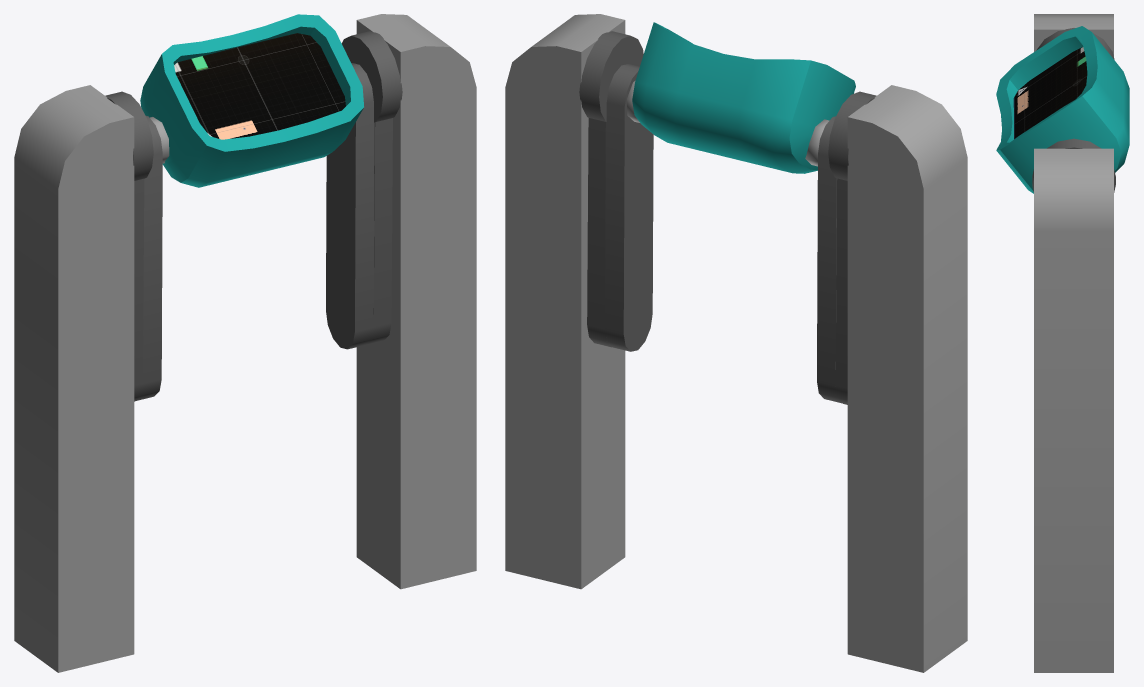
The model's file is SM_DroneGoggles.fbx.
3 views of the same model, side by side, from view 1: azimuth 30°, elevation 25°; view 2: azimuth 150°, elevation 25°; view 3: azimuth 270°, elevation 25° (orthographic). The views are drawn at different scales.
Parts seen in each view (by area): view 1: BAse, Arm2, Goggles, Screen, Arm1, Pivot; view 2: BAse, Goggles, Arm2, Arm1, Pivot, Pivot2; view 3: BAse, Goggles, Screen, Pivot.
Boxes of the visible parts, bbox=[...] form: BAse: bbox=[14, 14, 476, 672]; Arm2: bbox=[136, 63, 374, 400]; Goggles: bbox=[140, 14, 363, 187]; Screen: bbox=[174, 33, 345, 139]; Arm1: bbox=[134, 118, 392, 401]; Pivot: bbox=[105, 31, 402, 180]; BAse: bbox=[505, 14, 967, 672]; Goggles: bbox=[632, 22, 855, 173]; Arm2: bbox=[605, 64, 841, 403]; Arm1: bbox=[587, 118, 847, 404]; Pivot: bbox=[579, 31, 876, 180]; Pivot2: bbox=[627, 80, 829, 166]; BAse: bbox=[1034, 14, 1113, 672]; Goggles: bbox=[996, 26, 1129, 193]; Screen: bbox=[1013, 47, 1087, 139]; Pivot: bbox=[1032, 28, 1115, 192].
Size of the model in its own units: 1.24 by 1.61 by 0.3754.
Materials: 2 (2 with a texture image).
